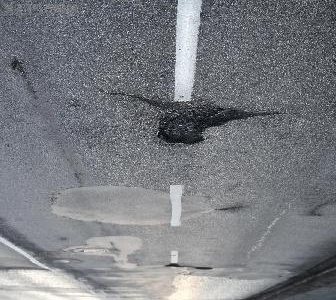pothole: (151, 99, 246, 146), (165, 261, 183, 270), (193, 266, 213, 272)
